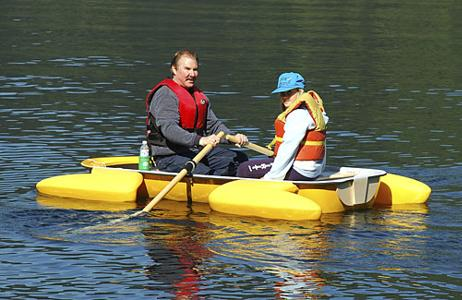person: (147, 50, 250, 177)
